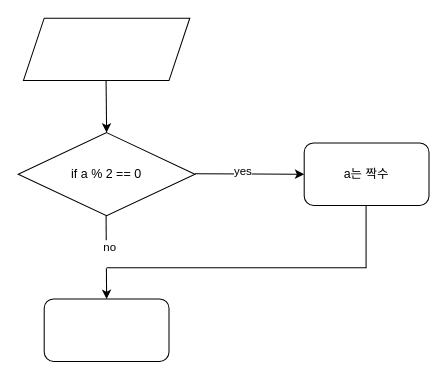
Some shapes in this 447 by 380 pixel diagram are drawn without their labels. Each missing label, with the box of its shape:
a는 홀수: (43, 298, 169, 361)
input a: (22, 17, 190, 81)
